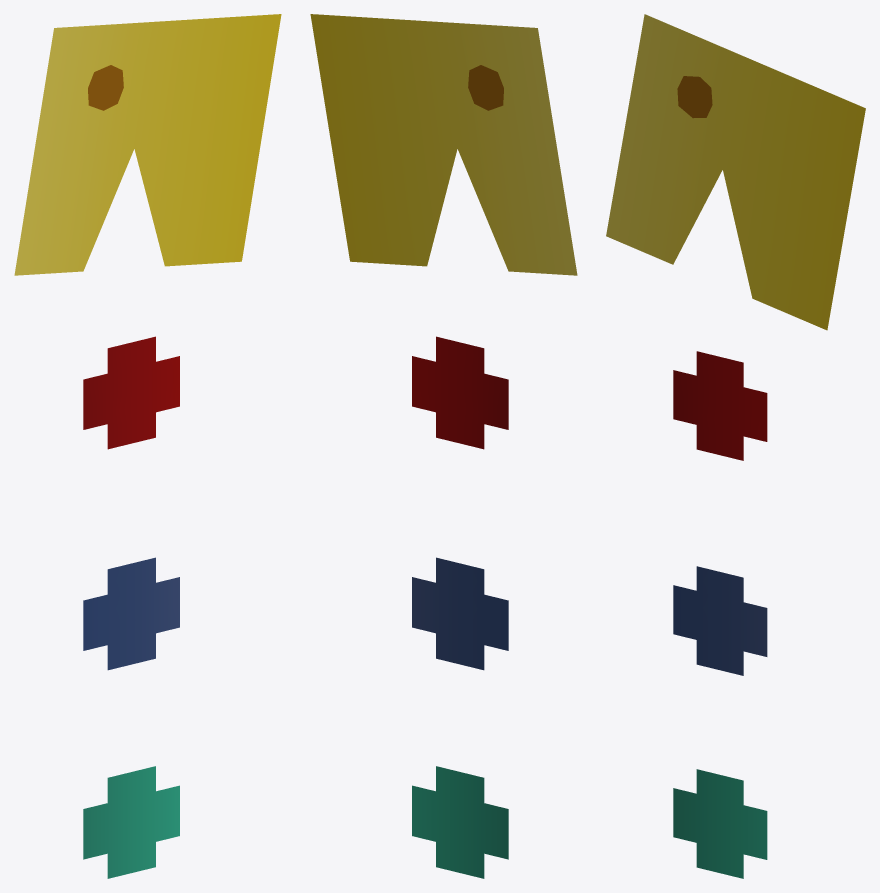
The model's file is 1.100_SanFrancisco_event_12.glb.
3 renders of one model, left to right at view 1: azimuth 30°, elevation 25°; view 2: azimuth 150°, elevation 25°; view 3: azimuth 330°, elevation 25°, orthographic. The views are drawn at different scales.
Parts seen in each view (by area): view 1: 1.100_SanFrancisco_event_12; view 2: 1.100_SanFrancisco_event_12; view 3: 1.100_SanFrancisco_event_12.
Part boxes in pixels (x1=…): 1.100_SanFrancisco_event_12: x1=14, y1=14, x2=281, y2=878; 1.100_SanFrancisco_event_12: x1=310, y1=14, x2=577, y2=878; 1.100_SanFrancisco_event_12: x1=606, y1=14, x2=865, y2=878.
Bounding box in the file's own units: 9.49 × 29.33 × 0.
Materials: 1 (1 with a texture image).
